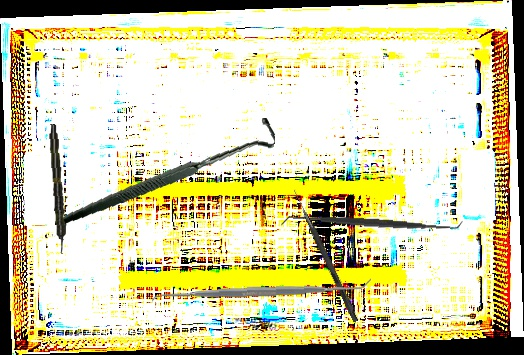Handpiece: (47, 123, 68, 255)
Hook Surgical: (54, 97, 278, 247), (289, 188, 361, 323)
Spatula Surgical: (151, 275, 372, 307), (279, 206, 464, 240)
